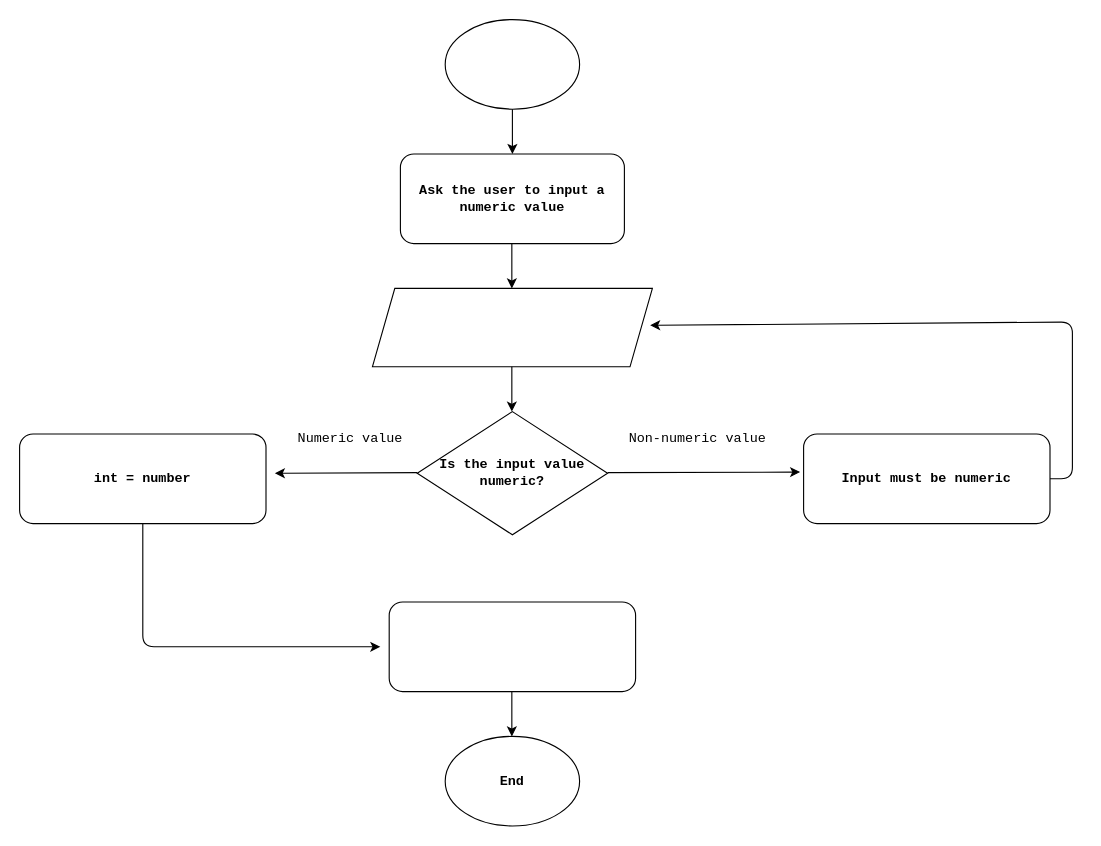
Some shapes in this 1101 by 846 pixel diagram are drawn without their labels. Each missing label, with the box of its shape:
number = int(input("Enter a numeric value: "): (371, 287, 652, 367)
print(number): (388, 601, 636, 692)
Start: (444, 18, 580, 109)
